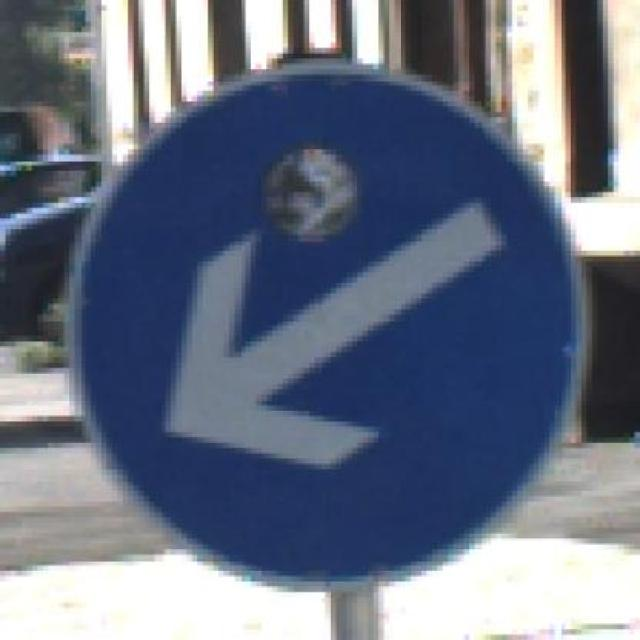Keep-Left: (54, 42, 581, 598)
